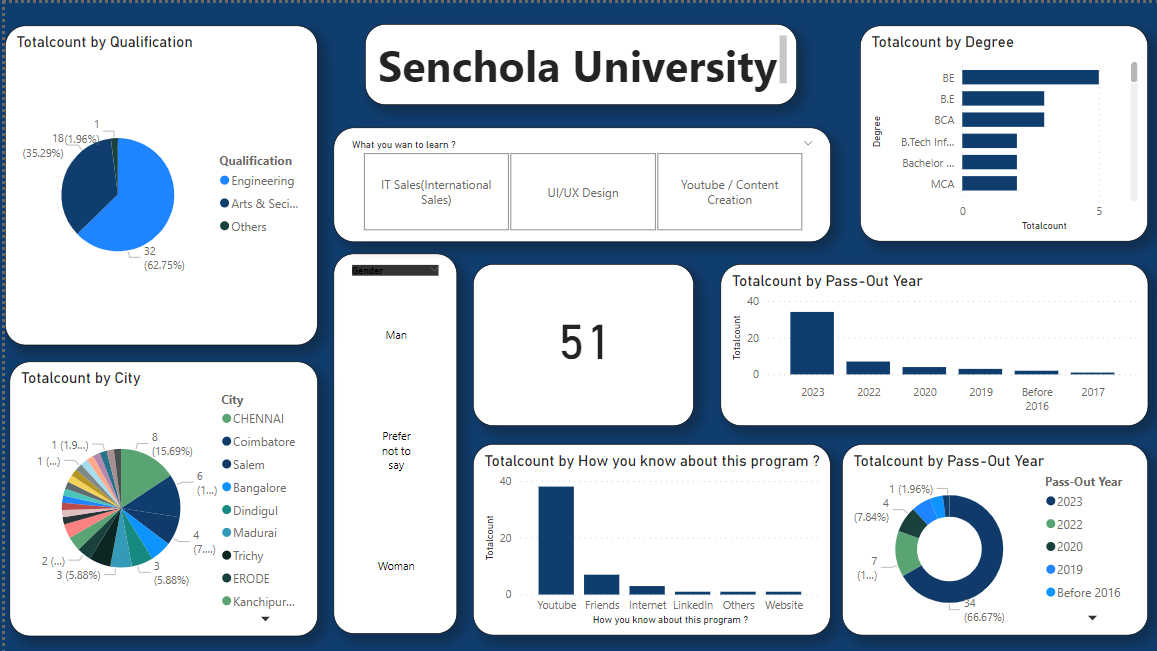

The dashboard page shown, as its layout file describes it:
{"tool":"powerbi","page":{"name":"Page 1","canvas":[1280,720],"ordinal":0},"visuals":[{"type":"card","fields":{"Values":["Form1.Totalcount"]},"box":[520,290,245,180],"z":0},{"type":"slicer","fields":{"Values":["Form1.Gender"]},"box":[365,277.5,137.5,422.5],"z":1000},{"type":"pieChart","fields":{"Category":["Form1.Qualification"],"Y":["Form1.Totalcount"]},"box":[0,25,347.5,355],"z":2000},{"type":"clusteredBarChart","fields":{"Category":["Form1.Degree"],"Y":["Form1.Totalcount"]},"box":[950,25,320,240],"z":3000},{"type":"slicer","fields":{"Values":["Form1.What you wan to learn ?"]},"box":[365,137.5,552.5,127.5],"z":4000},{"type":"clusteredColumnChart","fields":{"Category":["Form1.How you know about this program ?"],"Y":["Form1.Totalcount"]},"box":[520,490,397.5,212.5],"z":5000},{"type":"pieChart","fields":{"Category":["Form1.City"],"Y":["Form1.Totalcount"]},"box":[5,397.5,342.5,305],"z":6000},{"type":"textbox","box":[400,22.5,480,90],"z":6001},{"type":"donutChart","fields":{"Category":["Form1.Pass-Out Year"],"Y":["Form1.Totalcount"]},"box":[930,490,340,212.5],"z":6002},{"type":"clusteredColumnChart","fields":{"Category":["Form1.Pass-Out Year"],"Y":["Form1.Totalcount"]},"box":[795,290,475,180],"z":6003}]}

Visuals, with their boxes in screenshot pixels (x1, y1, x2, y2), scaled from the page's 1280x720 canvas onto the 1157x651 screenshot:
card - Form1.Totalcount: 470 262 691 425
slicer - Form1.Gender: 330 251 454 633
pieChart - Form1.Qualification x Form1.Totalcount: 0 23 314 344
clusteredBarChart - Form1.Degree x Form1.Totalcount: 859 23 1148 240
slicer - Form1.What you wan to learn ?: 330 124 829 240
clusteredColumnChart - Form1.How you know about this program ? x Form1.Totalcount: 470 443 829 635
pieChart - Form1.City x Form1.Totalcount: 5 359 314 635
textbox: 362 20 795 102
donutChart - Form1.Pass-Out Year x Form1.Totalcount: 841 443 1148 635
clusteredColumnChart - Form1.Pass-Out Year x Form1.Totalcount: 719 262 1148 425
